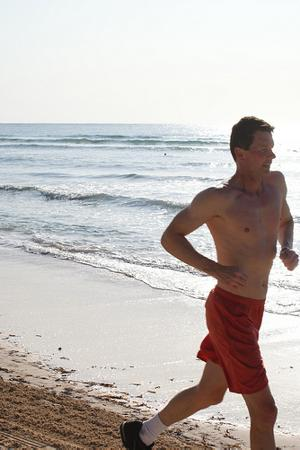person: (121, 118, 299, 449)
